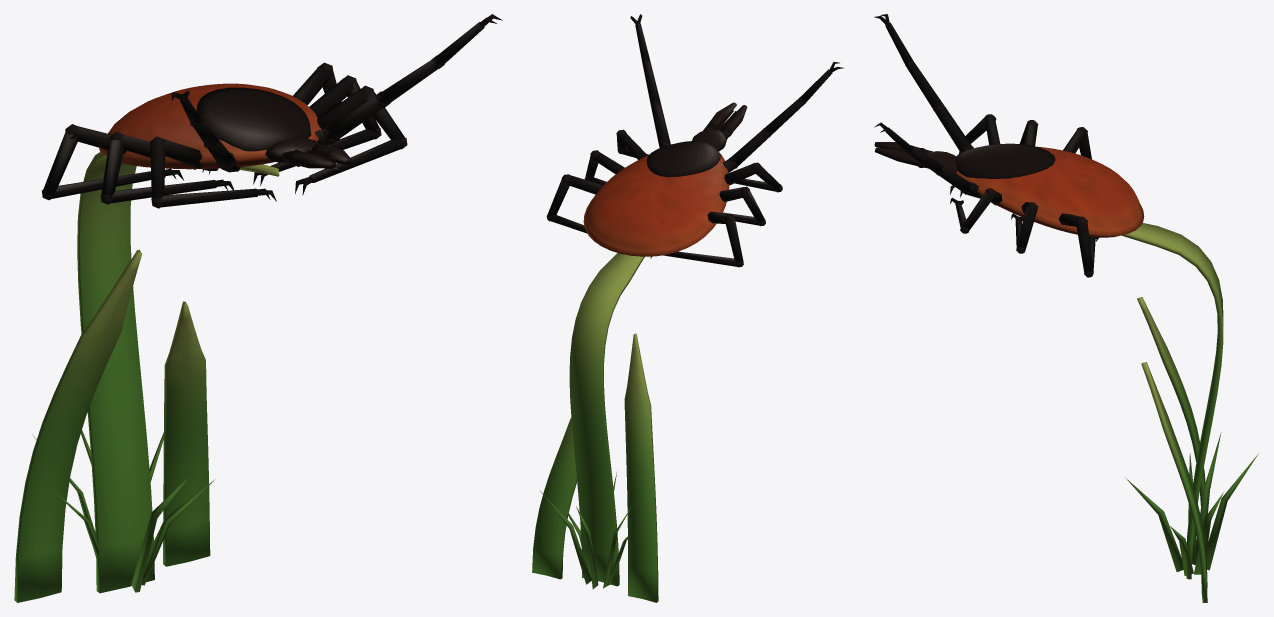
The model's file is BlackleggedTick.fbx.
The picture shows the model from 3 angles, left to right: view 1: azimuth 30°, elevation 25°; view 2: azimuth 150°, elevation 25°; view 3: azimuth 270°, elevation 25°; orthographic projection. The views are drawn at different scales.
Parts seen in each view (by area): view 1: BlackleggedTick; view 2: BlackleggedTick; view 3: BlackleggedTick.
Part boxes in pixels (<box>): BlackleggedTick: <box>14,14,502,602</box>; BlackleggedTick: <box>532,14,843,602</box>; BlackleggedTick: <box>874,14,1258,602</box>.
Bounding box in the file's own units: 0.6913 × 1.37 × 0.9583.
